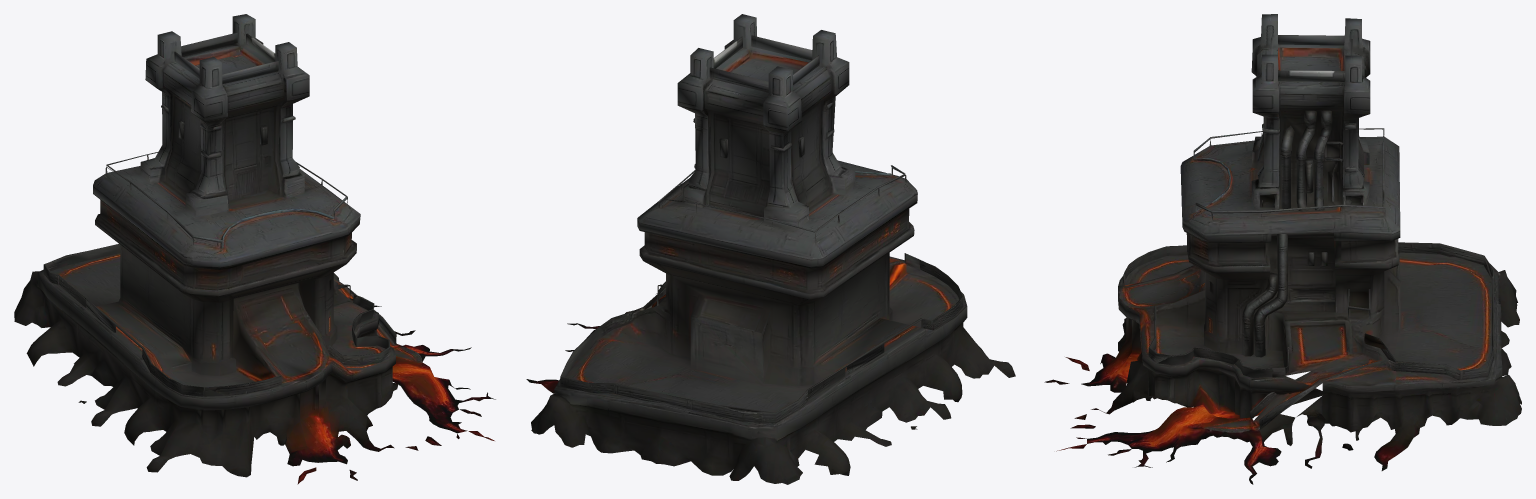
File: arena-tower-v1.glb
3 views of the same model, side by side, from view 1: azimuth 30°, elevation 25°; view 2: azimuth 150°, elevation 25°; view 3: azimuth 270°, elevation 25° (orthographic). The views are drawn at different scales.
Visible parts, largest first — view 1: arena-tower-v1; view 2: arena-tower-v1; view 3: arena-tower-v1.
Boxes of the visible parts, x1,y1,x2,y2 form: arena-tower-v1: (14,14,495,484); arena-tower-v1: (526,14,1015,484); arena-tower-v1: (1044,14,1521,484).
Size of the model in its own units: 191 by 171 by 210.
Materials: 1 (1 with a texture image).
